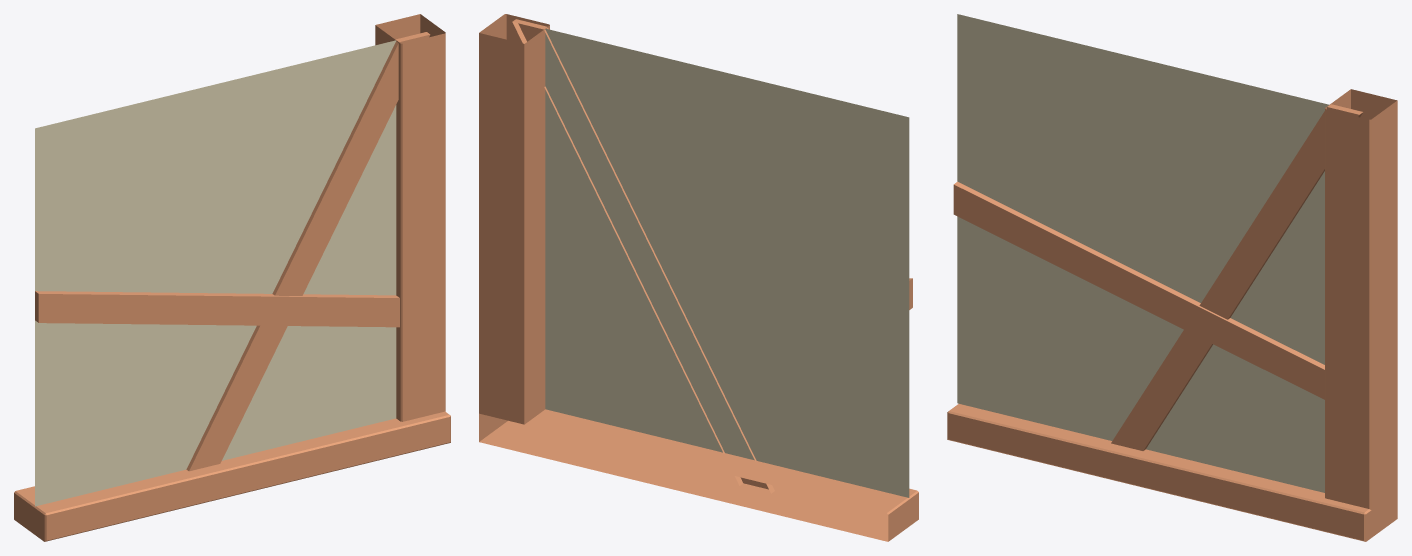
Rendered from Wall4.fbx.
3 views of the same model, side by side, from view 1: azimuth 30°, elevation 25°; view 2: azimuth 150°, elevation 25°; view 3: azimuth 330°, elevation 25° (orthographic). The views are drawn at different scales.
Parts seen in each view (by area): view 1: Wall4_low, Wall4_plank1_low, Wall4_plank2_low; view 2: Wall4_low, Wall4_plank1_low, Wall4_plank2_low; view 3: Wall4_low, Wall4_plank1_low, Wall4_plank2_low.
Boxes of the visible parts, <box> form: Wall4_low: <box>35,40,396,506</box>; Wall4_plank1_low: <box>14,14,450,541</box>; Wall4_plank2_low: <box>35,32,430,471</box>; Wall4_low: <box>545,28,909,497</box>; Wall4_plank1_low: <box>479,14,918,541</box>; Wall4_plank2_low: <box>512,19,912,493</box>; Wall4_low: <box>957,14,1328,492</box>; Wall4_plank1_low: <box>947,89,1397,541</box>; Wall4_plank2_low: <box>953,104,1363,450</box>.
Size of the model in its own units: 450 by 430 by 60.
